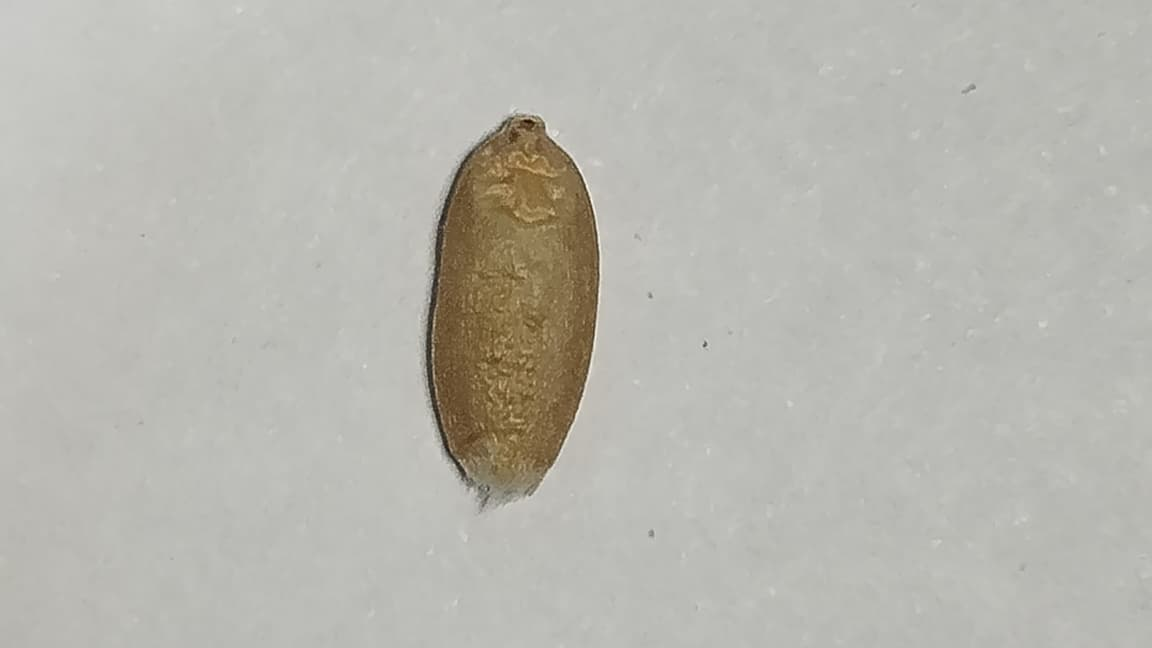healthy: (425, 114, 602, 493)
